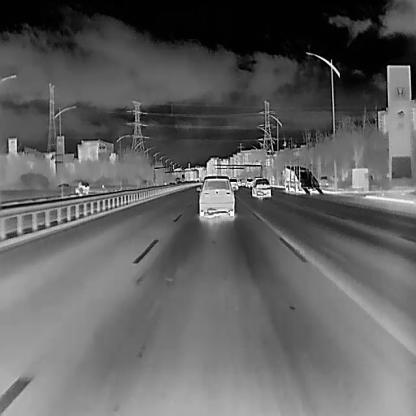car: (195, 174, 234, 217), (250, 177, 271, 198), (244, 176, 254, 188), (229, 176, 237, 190)
truck: (280, 163, 322, 195), (74, 179, 88, 196)
